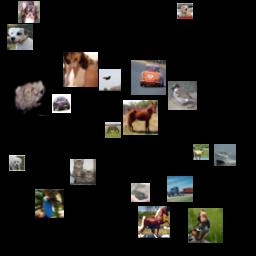airplane: (99, 69, 121, 91)
automobile: (131, 60, 166, 95), (52, 94, 71, 113)
bird: (188, 208, 223, 243), (168, 81, 197, 110), (35, 189, 64, 218)
cat: (63, 52, 98, 87), (70, 159, 96, 185)
dog: (7, 24, 33, 50), (18, 1, 40, 23), (177, 3, 193, 19), (9, 155, 25, 171)
frog: (11, 78, 49, 116), (131, 183, 150, 202)
ship: (214, 144, 236, 166)
truck: (167, 176, 193, 202)
